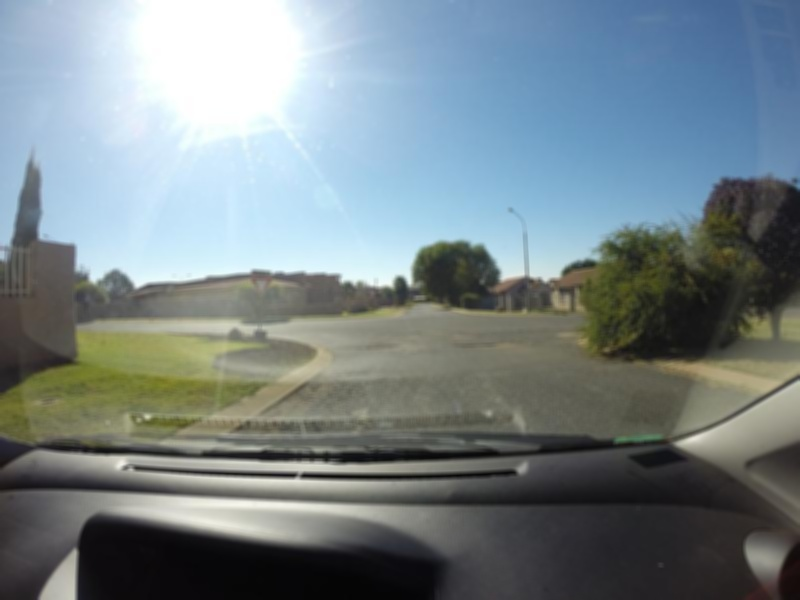pothole: (453, 339, 510, 355), (355, 339, 402, 355)
